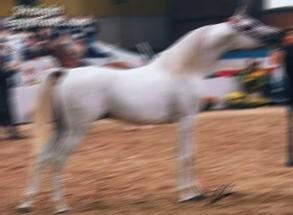horse: (15, 5, 286, 213)
